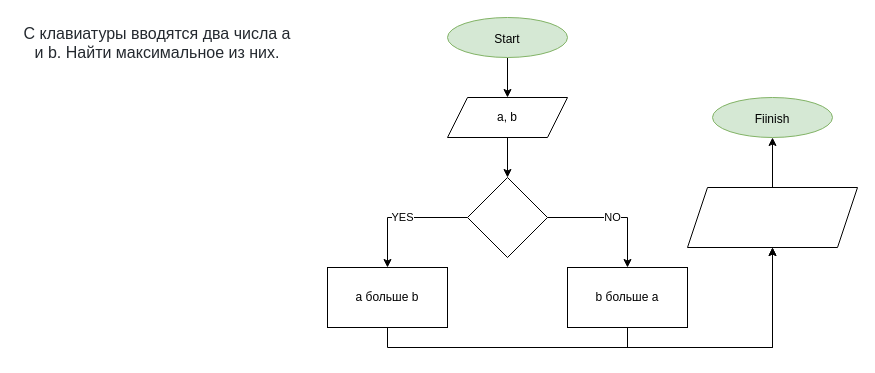
This 875x373 diagram has some shape labels left out. The centre of each missing label's shape, as x and y in pixels:
"a > b ?" goes at point (507, 217).
"Большое число" goes at point (772, 217).
